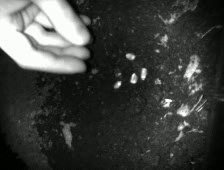corn: (128, 71, 140, 85), (138, 66, 149, 81), (123, 52, 137, 61), (112, 79, 123, 90), (113, 71, 123, 76)
